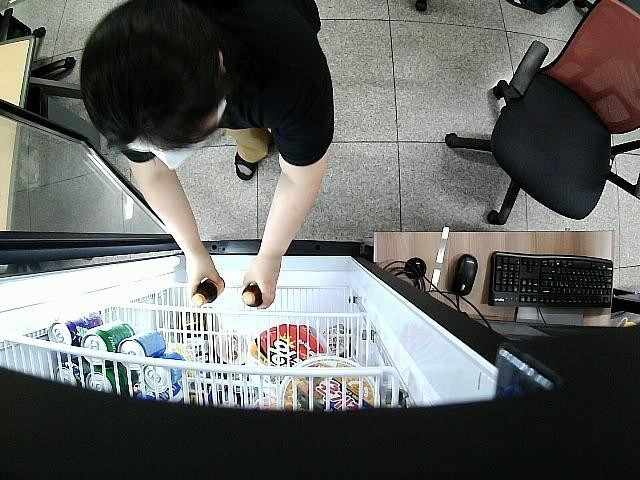17_vita500: (192, 278, 224, 306), (240, 284, 262, 309)
